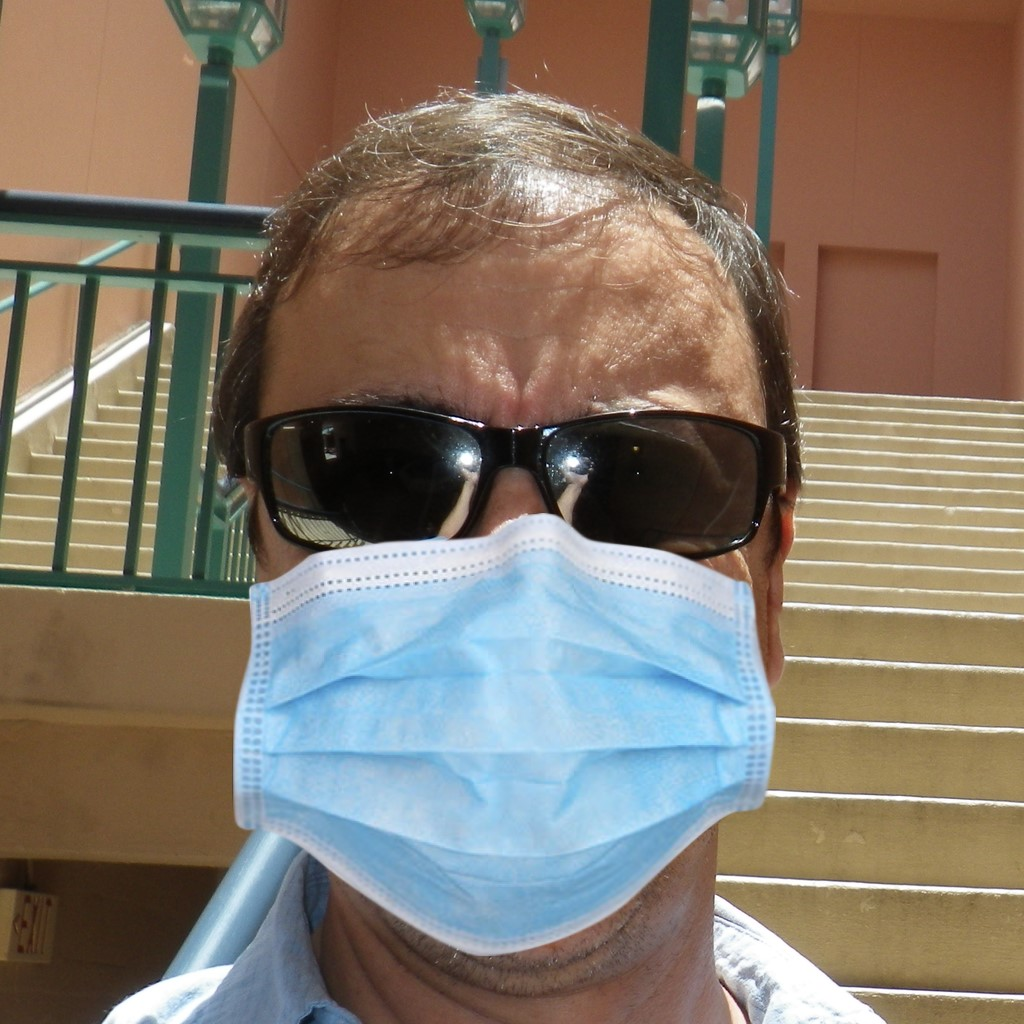con_mascara: (272, 135, 762, 982)
